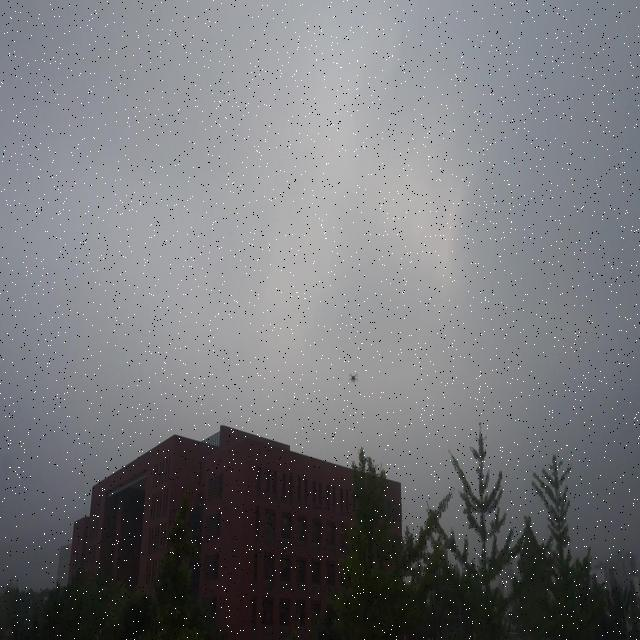UAV: (348, 372, 358, 384)
